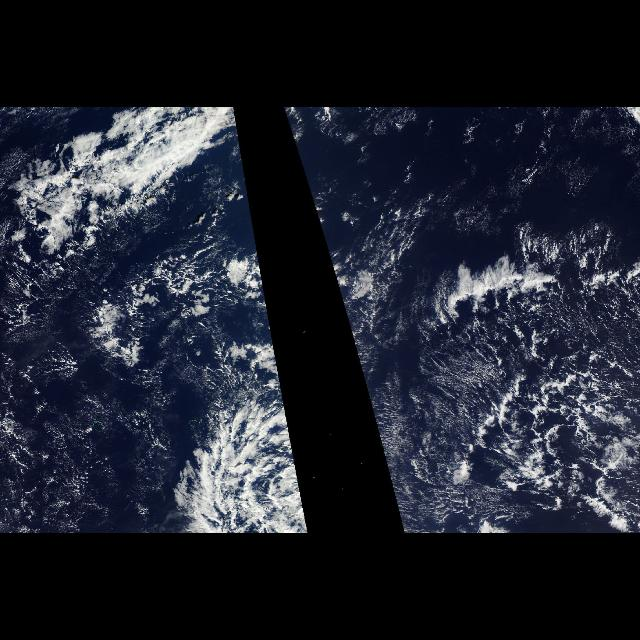Fish: (9, 109, 308, 527)
Gravel: (381, 242, 639, 534)
